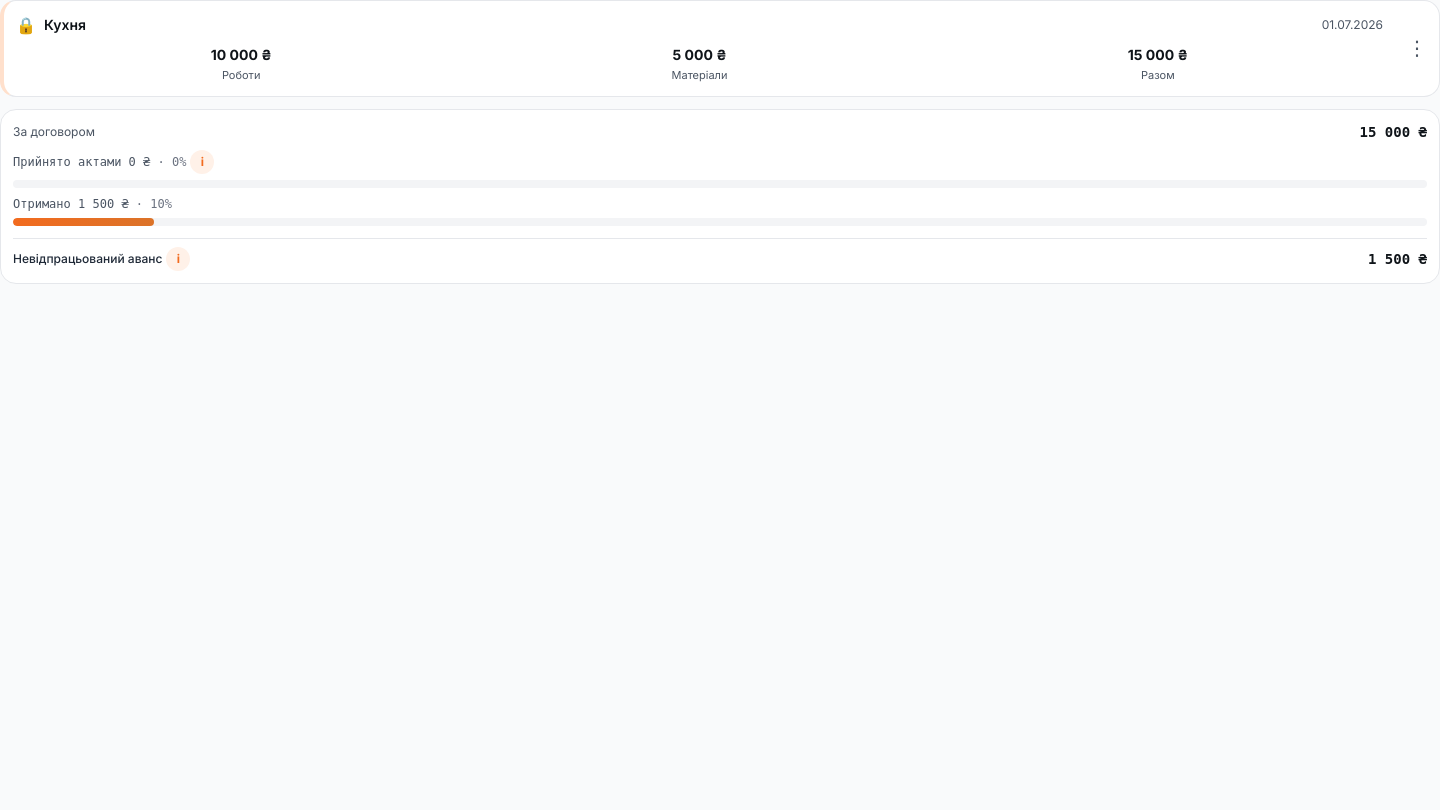
Test: ObjectEconomySection › the act ⋮ menu offers «Згенерувати акт» when no act is open (acts iteration)
Expected: the text "Кухня" is shown, [44, 16, 86, 33]
Click the button named "Дії": (1417, 48) [1395, 1, 1439, 96]
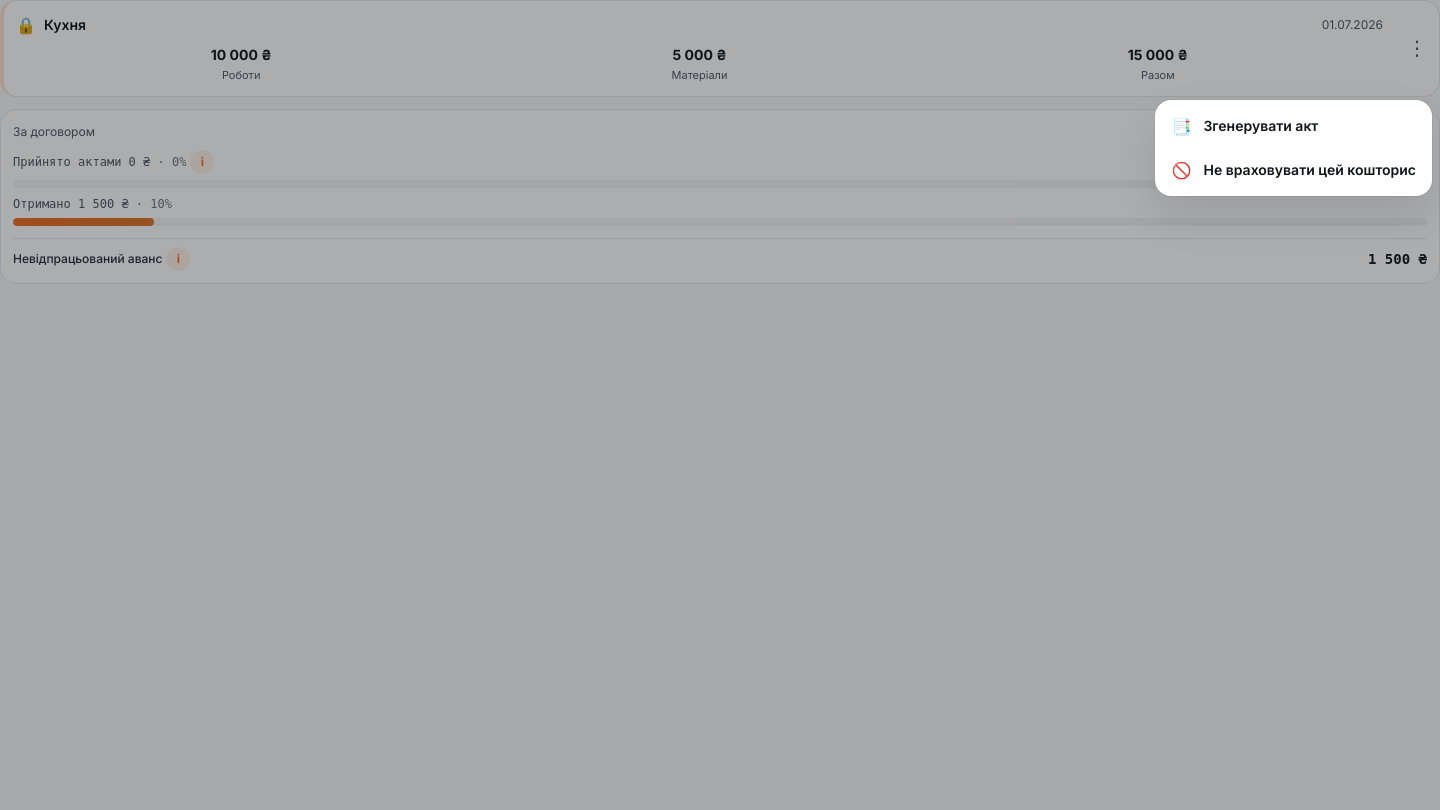
Expected: the text "Згенерувати акт" is shown, [1204, 116, 1318, 134]
